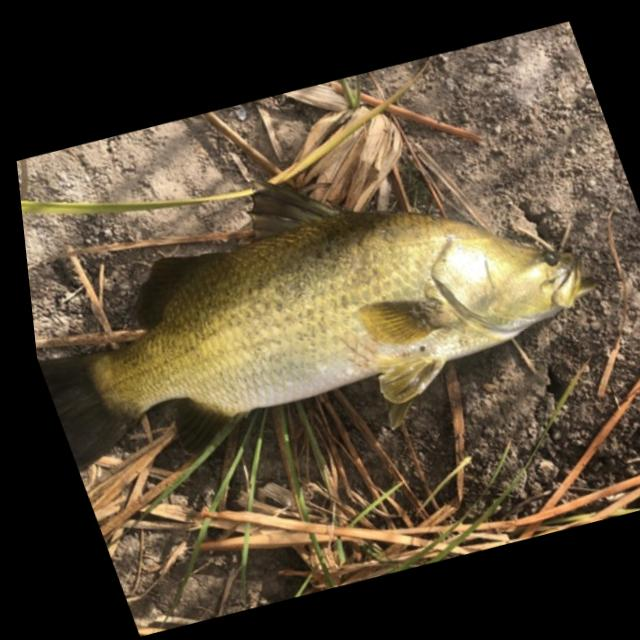Seabass: (10, 94, 640, 514)
